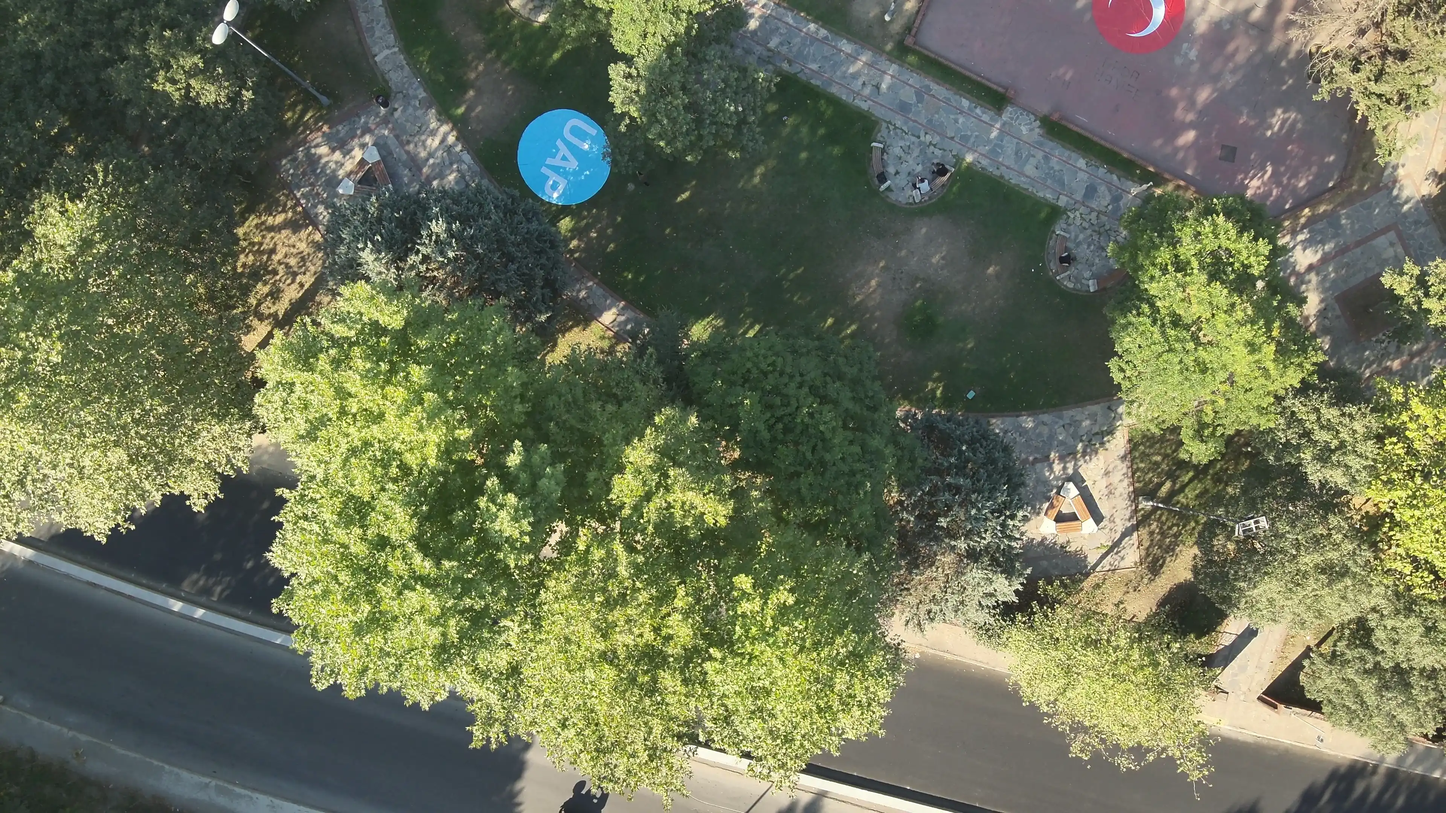UAP: (516, 108, 609, 205)
